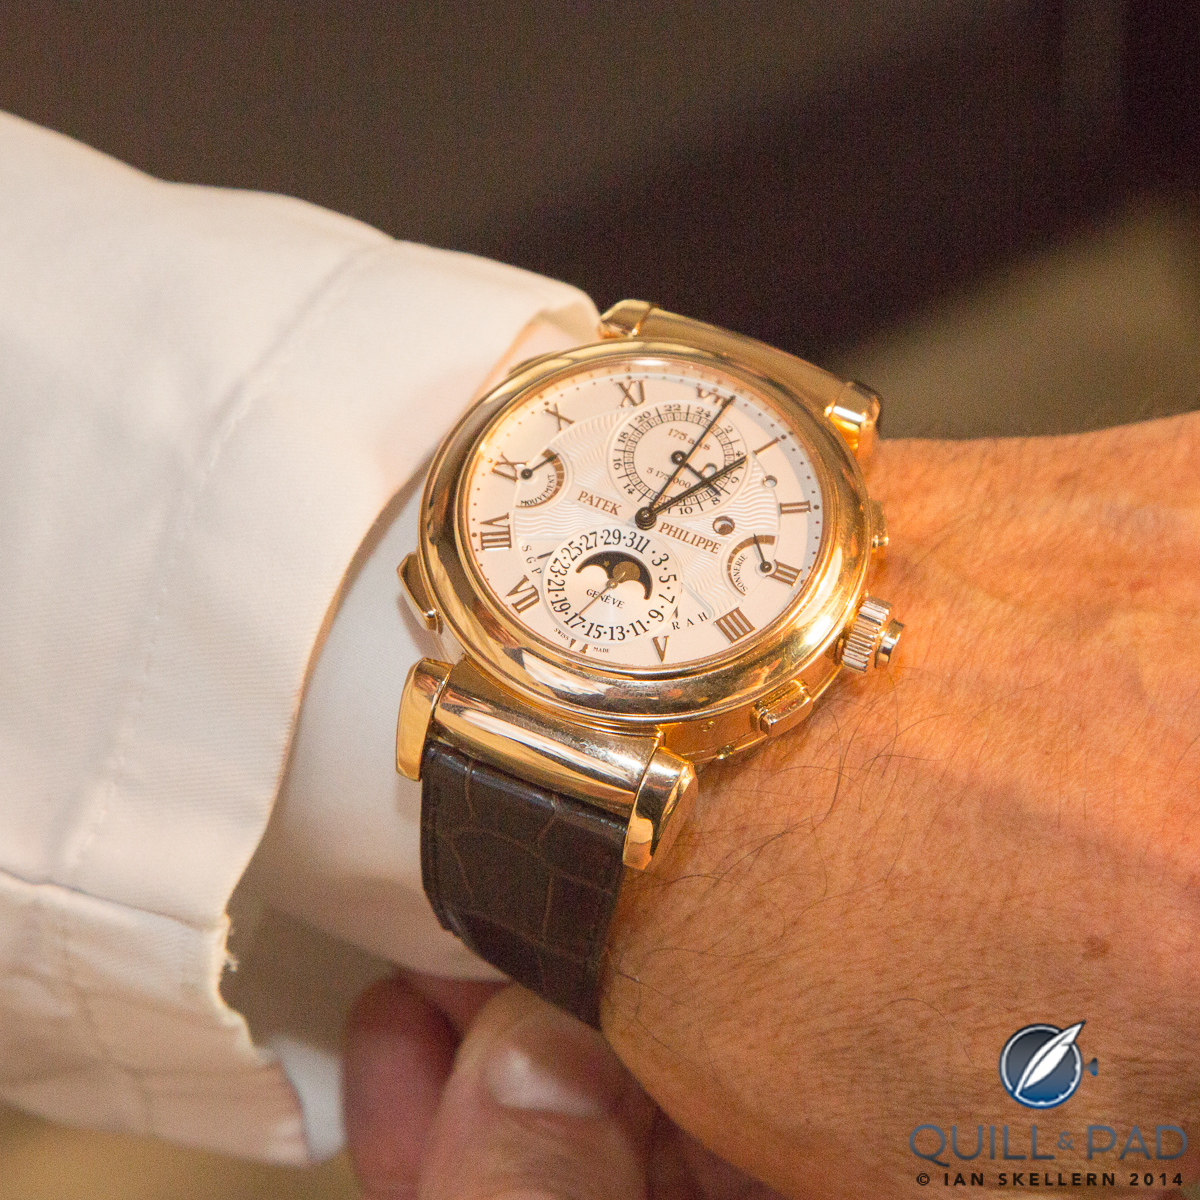clock: (453, 349, 836, 684)
